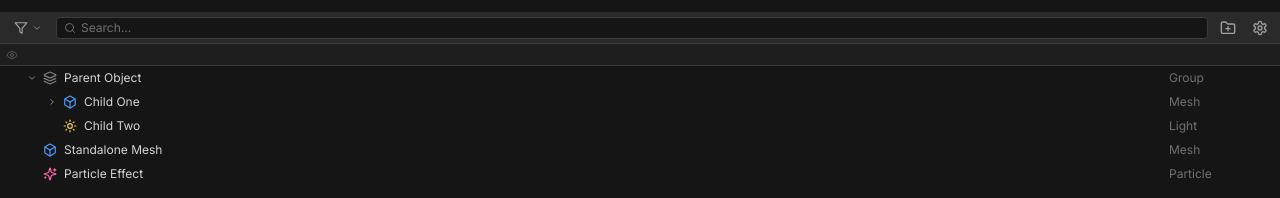
Test case: Hierarchy Component › search functionality › shows no results when search has no matches
Type "nonexistent" into the field with placeholder "Search...".
click(632, 28); type("nonexistent")  # box x1=56 y1=16 x2=1208 y2=38
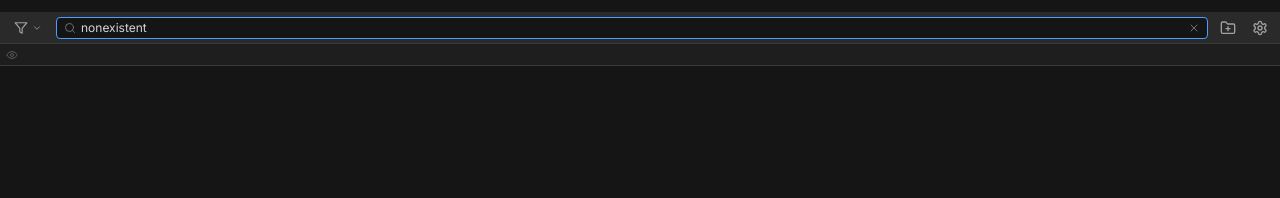
Result: the text "Parent Object" is gone
Result: the text "Standalone Mesh" is gone
